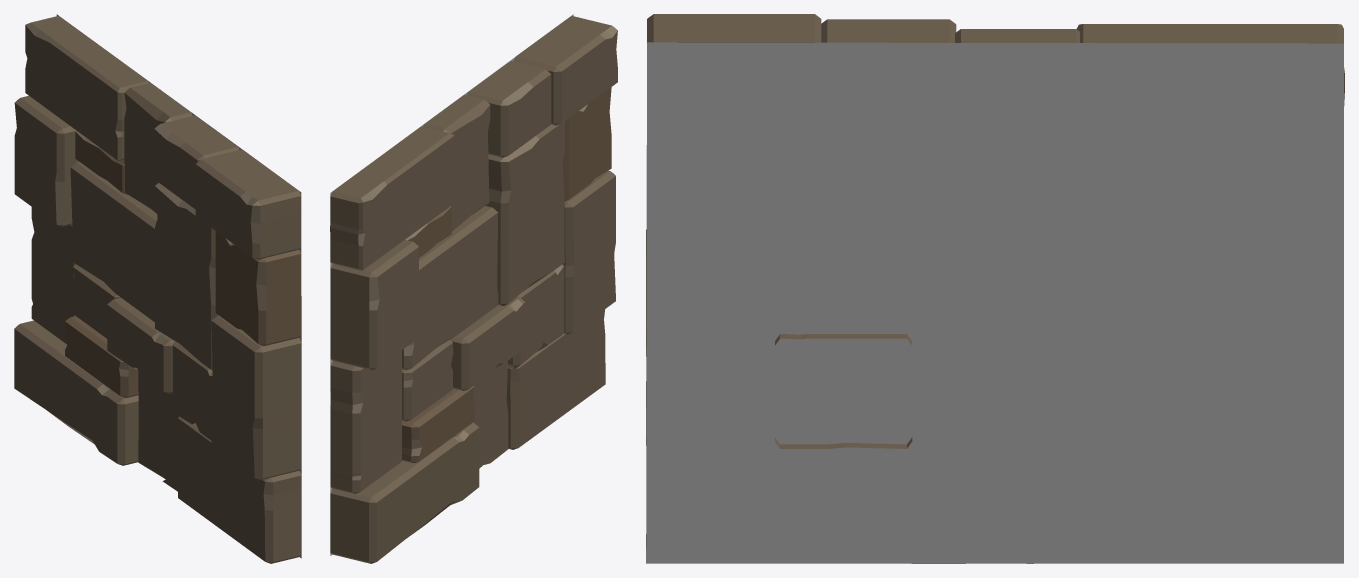
File: ModularWall.fbx
3 views of the same model, side by side, from view 1: azimuth 30°, elevation 25°; view 2: azimuth 150°, elevation 25°; view 3: azimuth 270°, elevation 25° (orthographic). The views are drawn at different scales.
Visible parts, largest first — view 1: Wall_Modular1; view 2: Wall_Modular1; view 3: Wall_Modular1.
Part boxes in pixels (bbox=[...]): Wall_Modular1: bbox=[14, 14, 301, 563]; Wall_Modular1: bbox=[330, 14, 617, 563]; Wall_Modular1: bbox=[646, 14, 1344, 563].
Size of the model in its own units: 5.74 by 37.56 by 45.61.
